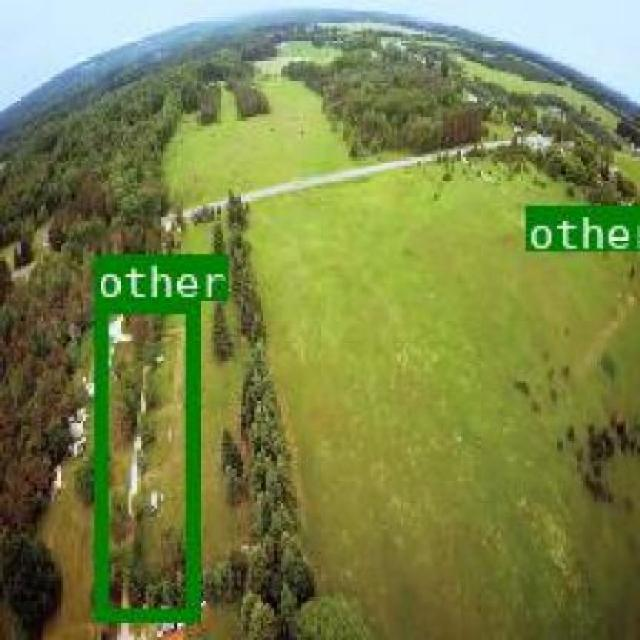other: (93, 297, 195, 620), (523, 203, 580, 249)
